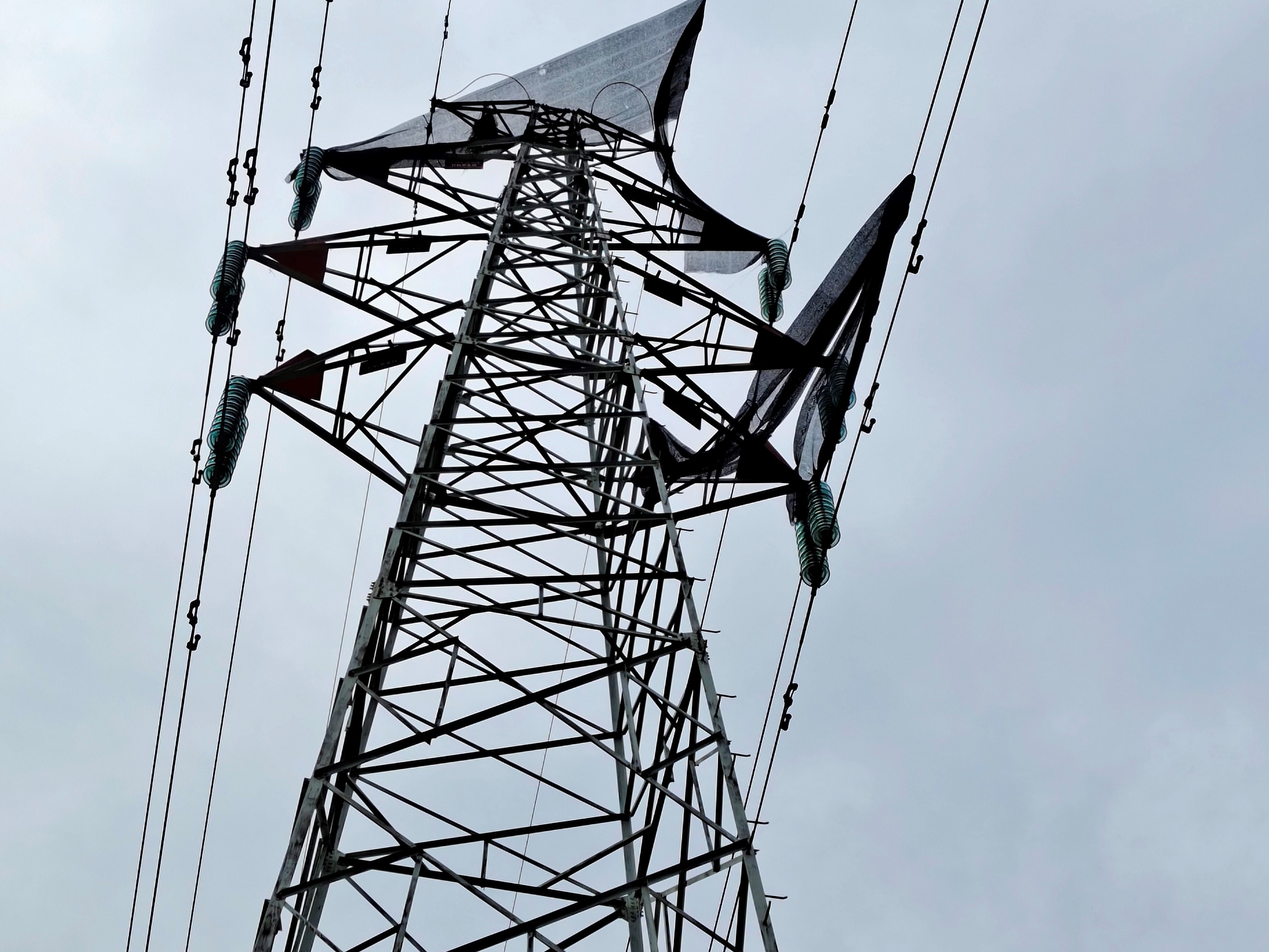异物: (283, 0, 772, 277), (630, 173, 917, 527)
